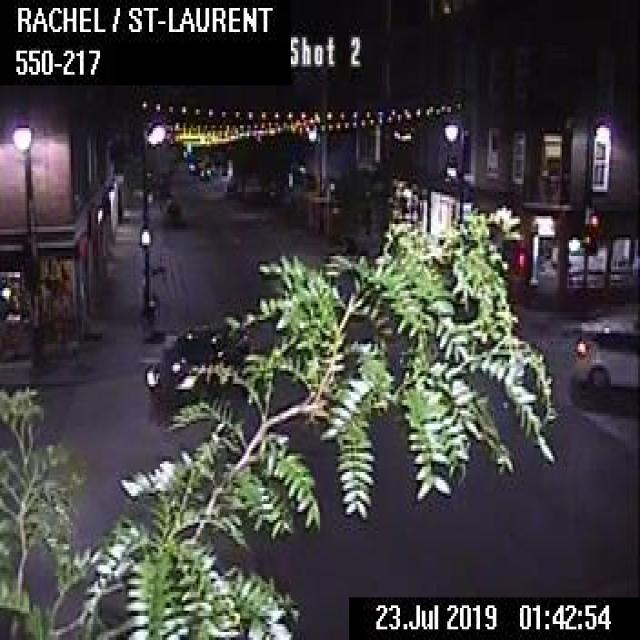vehicle: (144, 320, 252, 410), (569, 323, 638, 397)
